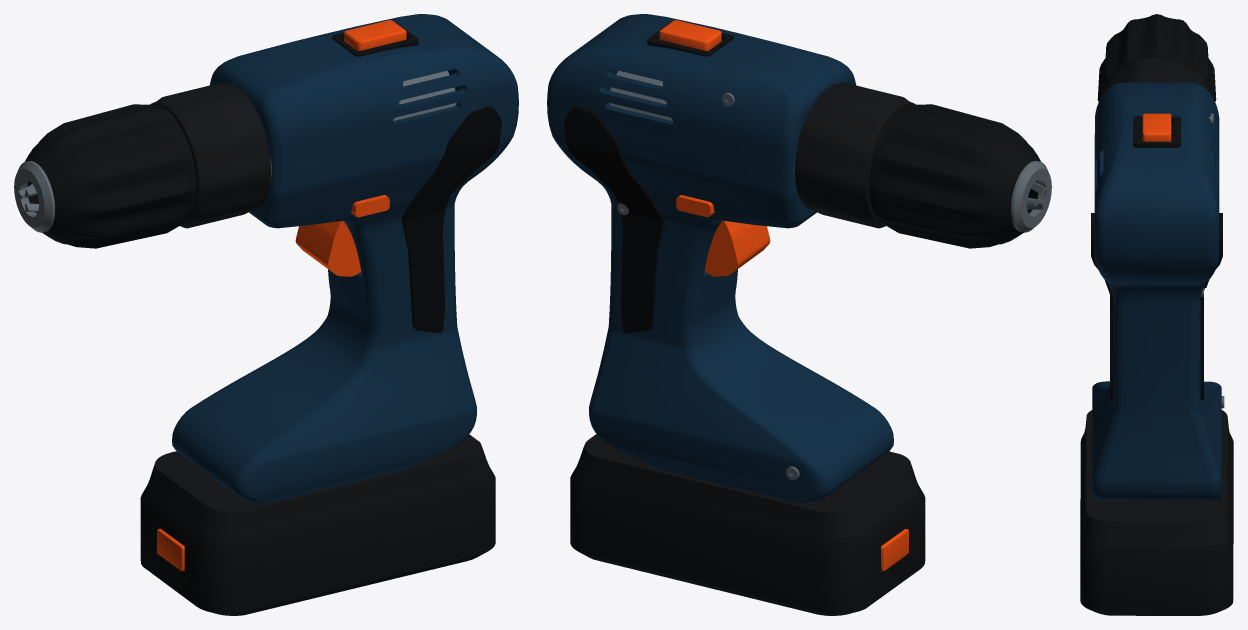
The picture shows the model from 3 angles, left to right: view 1: azimuth 30°, elevation 25°; view 2: azimuth 150°, elevation 25°; view 3: azimuth 270°, elevation 25°; orthographic projection. The views are drawn at different scales.
Parts seen in each view (by area): view 1: part_075_Housing_right_shell, part_142_Battery_lower_enclosure, part_073_Keyless_chuck_sleeve, part_134_Battery_upper_enclosure, part_076_Housing_left_shell, part_004_Torque_setting_collar, part_033_Right_grip_overmold, part_002_Variable_speed_trigger, part_095_Chuck_nose_ring, part_003_Two_speed_slider, part_135_Battery_release_latch, part_053_Motor_steel_can (+1 smaller); view 2: part_076_Housing_left_shell, part_142_Battery_lower_enclosure, part_073_Keyless_chuck_sleeve, part_134_Battery_upper_enclosure, part_075_Housing_right_shell, part_004_Torque_setting_collar, part_072_Left_grip_overmold, part_002_Variable_speed_trigger, part_095_Chuck_nose_ring, part_003_Two_speed_slider, part_135_Battery_release_latch, part_053_Motor_steel_can (+1 smaller); view 3: part_075_Housing_right_shell, part_076_Housing_left_shell, part_142_Battery_lower_enclosure, part_134_Battery_upper_enclosure, part_073_Keyless_chuck_sleeve, part_004_Torque_setting_collar, part_003_Two_speed_slider, part_032_Speed_slider_surround, part_033_Right_grip_overmold, part_072_Left_grip_overmold.
Part boxes in pixels (<box>): part_075_Housing_right_shell: <box>203,30,518,503</box>; part_142_Battery_lower_enclosure: <box>140,467,495,615</box>; part_073_Keyless_chuck_sleeve: <box>25,104,196,248</box>; part_134_Battery_upper_enclosure: <box>146,434,489,538</box>; part_076_Housing_left_shell: <box>172,14,469,471</box>; part_004_Torque_setting_collar: <box>150,83,270,228</box>; part_033_Right_grip_overmold: <box>401,106,501,332</box>; part_002_Variable_speed_trigger: <box>295,221,361,276</box>; part_095_Chuck_nose_ring: <box>14,161,54,232</box>; part_003_Two_speed_slider: <box>344,20,406,50</box>; part_135_Battery_release_latch: <box>157,528,184,570</box>; part_053_Motor_steel_can: <box>393,70,456,120</box>; part_076_Housing_left_shell: <box>547,30,862,503</box>; part_142_Battery_lower_enclosure: <box>570,467,925,615</box>; part_073_Keyless_chuck_sleeve: <box>869,104,1040,248</box>; part_134_Battery_upper_enclosure: <box>576,434,919,538</box>; part_075_Housing_right_shell: <box>596,14,893,471</box>; part_004_Torque_setting_collar: <box>795,83,915,228</box>; part_072_Left_grip_overmold: <box>564,106,664,332</box>; part_002_Variable_speed_trigger: <box>704,221,770,276</box>; part_095_Chuck_nose_ring: <box>1011,161,1051,232</box>; part_003_Two_speed_slider: <box>659,20,721,50</box>; part_135_Battery_release_latch: <box>881,528,908,570</box>; part_053_Motor_steel_can: <box>609,70,672,120</box>; part_075_Housing_right_shell: <box>1092,82,1156,500</box>; part_076_Housing_left_shell: <box>1157,82,1221,500</box>; part_142_Battery_lower_enclosure: <box>1080,433,1233,615</box>; part_134_Battery_upper_enclosure: <box>1084,410,1229,546</box>; part_073_Keyless_chuck_sleeve: <box>1097,14,1216,101</box>; part_004_Torque_setting_collar: <box>1101,57,1212,96</box>; part_003_Two_speed_slider: <box>1142,113,1171,141</box>; part_032_Speed_slider_surround: <box>1133,116,1180,147</box>; part_033_Right_grip_overmold: <box>1091,213,1113,400</box>; part_072_Left_grip_overmold: <box>1200,213,1222,400</box>.
Bounding box in the file's own units: 0.1988 × 0.2105 × 0.064.
